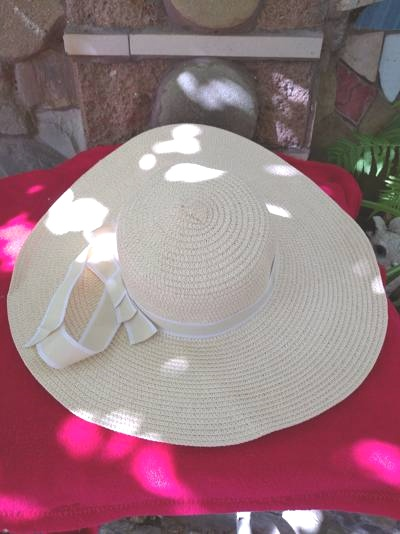Hat: (13, 107, 393, 442)
